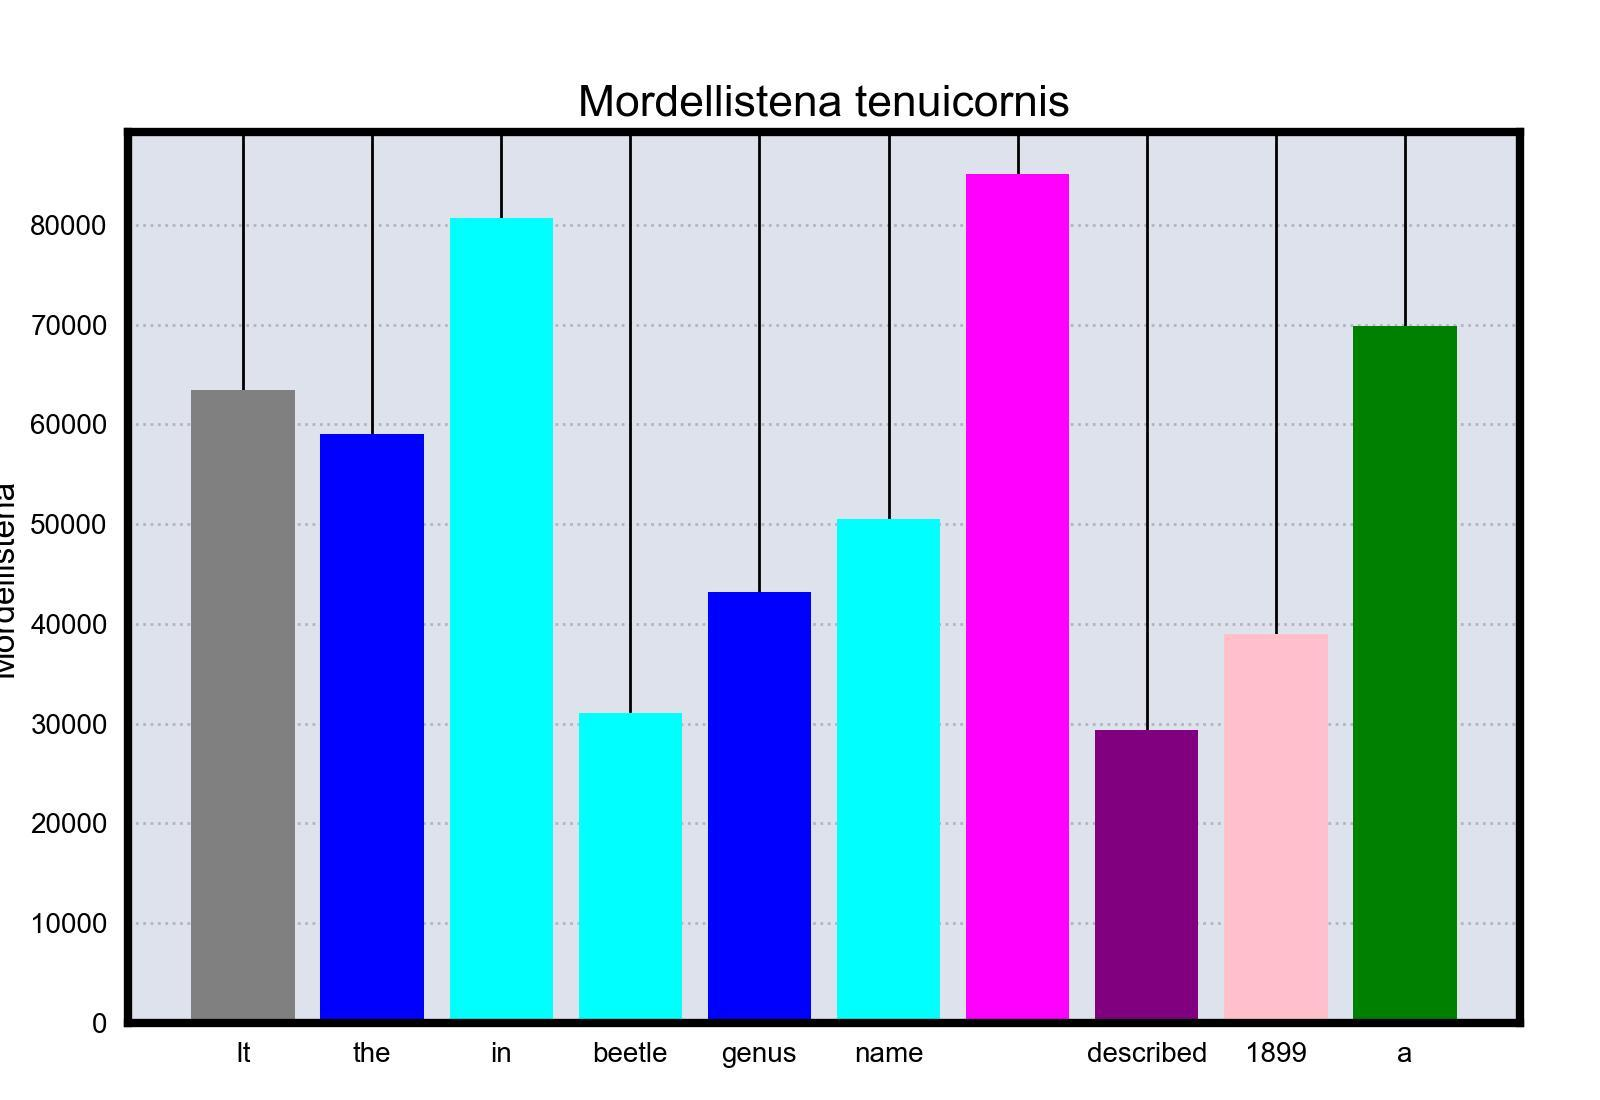axis: (0, 215, 108, 1039)
rectangle: (967, 174, 1069, 1023), (450, 218, 552, 1023), (1353, 326, 1457, 1023), (192, 390, 294, 1023), (321, 434, 423, 1023), (836, 519, 940, 1023), (708, 592, 811, 1023), (1224, 634, 1328, 1023), (579, 713, 682, 1023), (1095, 730, 1199, 1023)
